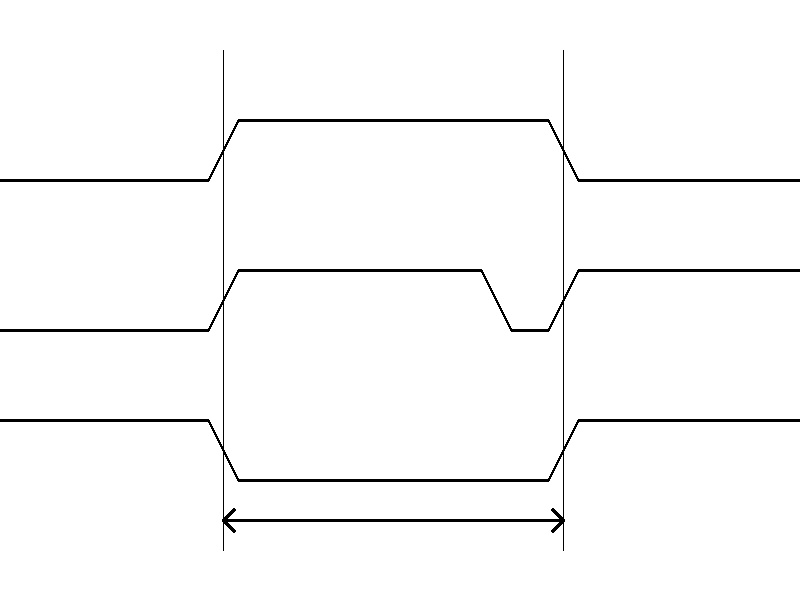double_arrow: (223, 505, 563, 535)
